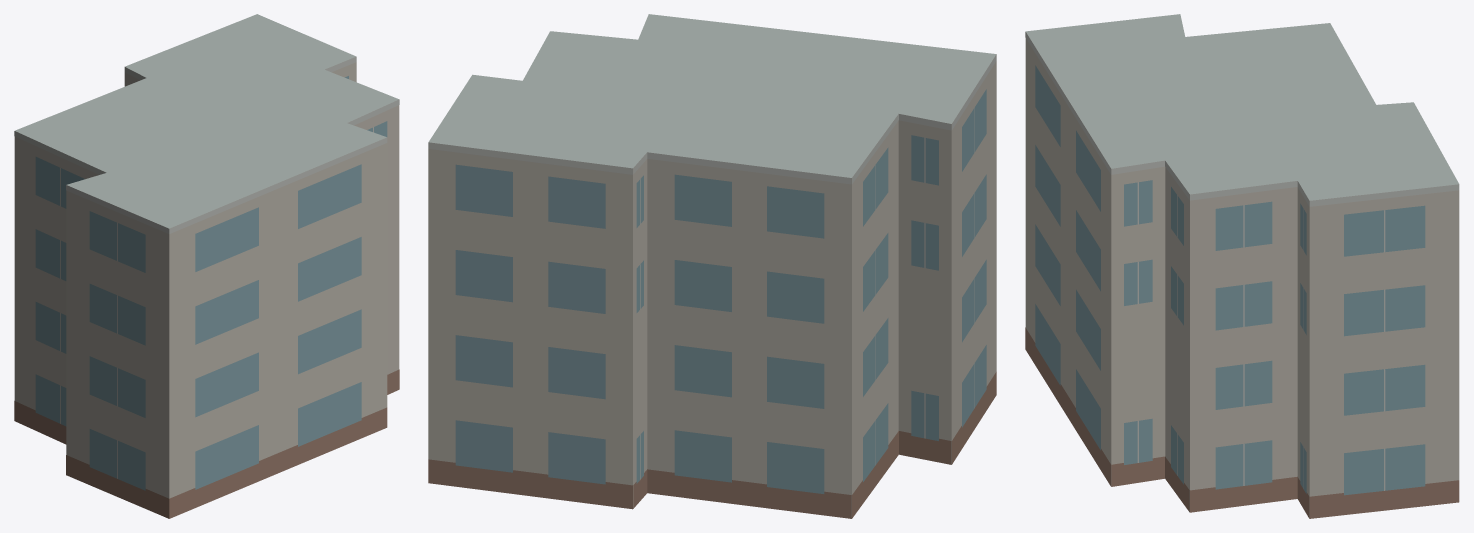
File: survey-upis-32605730.glb
The picture shows the model from 3 angles, left to right: view 1: azimuth 30°, elevation 25°; view 2: azimuth 150°, elevation 25°; view 3: azimuth 270°, elevation 25°; orthographic projection. The views are drawn at different scales.
Parts seen in each view (by area): view 1: survey-upis-32605730.tmp; view 2: survey-upis-32605730.tmp; view 3: survey-upis-32605730.tmp.
Part boxes in pixels (box(x1,y1,x2,y2)): survey-upis-32605730.tmp: box(14, 14, 399, 518); survey-upis-32605730.tmp: box(428, 14, 996, 518); survey-upis-32605730.tmp: box(1025, 14, 1459, 518).
Size of the model in its own units: 16.13 by 12.8 by 15.84.
